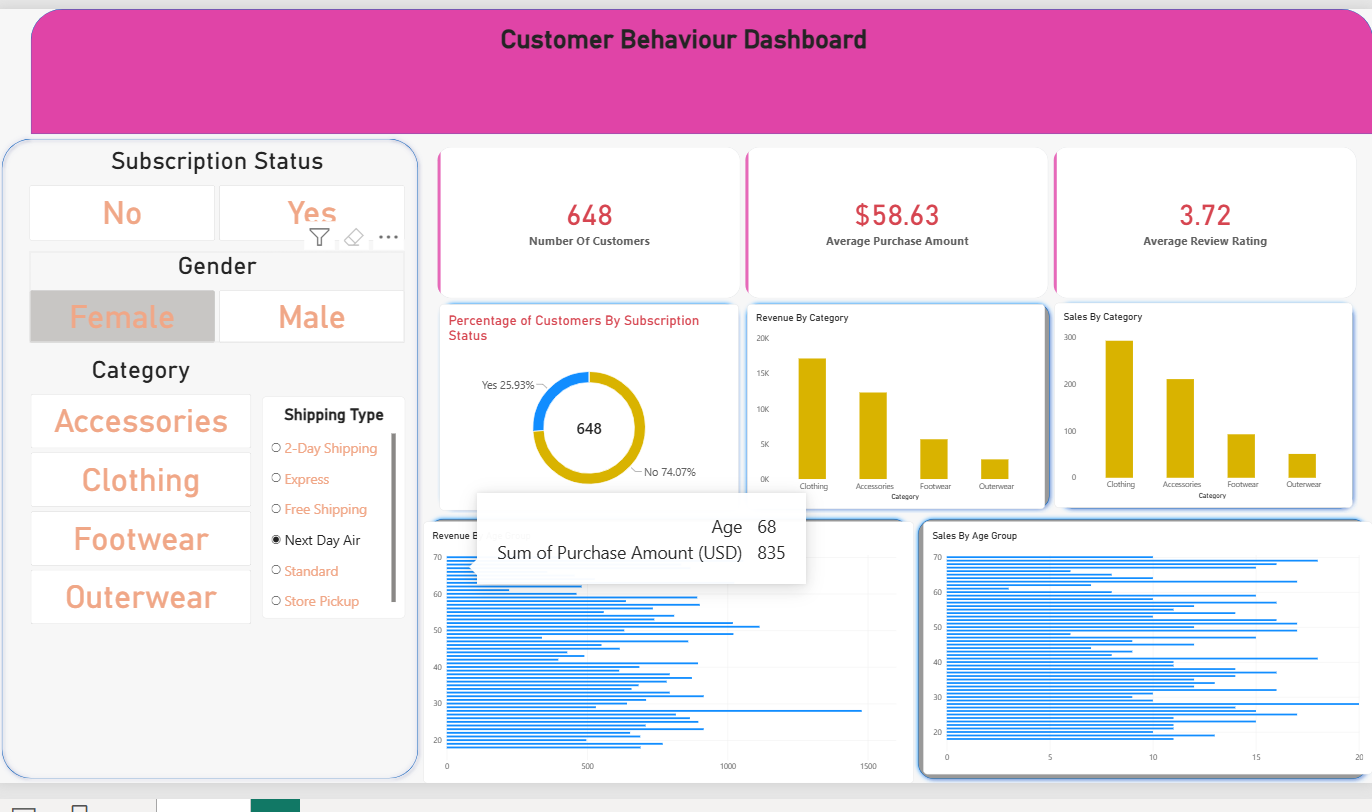

The dashboard page shown, as its layout file describes it:
{"tool":"powerbi","page":{"name":"Page 1","canvas":[2560,1440],"ordinal":0},"visuals":[{"type":"cardVisual","fields":{"Data":["analysis customer.Number Of Customers","analysis customer.Average Purchase Amount","analysis customer.Average Review Rating"]},"box":[818.9,257,1712.3,283.4],"z":0},{"type":"shape","box":[62.4,0,2497.6,232.9],"z":1000},{"type":"textbox","box":[62.4,28.8,2430.3,88.9],"z":2000},{"type":"shape","box":[818.9,540.3,566.8,398.6],"z":3000},{"type":"donutChart","title":"Percentage of Customers By Subscription Status","fields":{"Category":["analysis customer.Subscription Status"],"Y":["CountNonNull(analysis customer.Customer ID)"]},"box":[823.7,549.9,557.1,384.2],"z":4000},{"type":"shape","box":[1966.8,540.3,564.4,398.6],"z":5000},{"type":"shape","box":[1385.7,540.3,581.2,398.6],"z":6000},{"type":"clusteredColumnChart","title":"Revenue By Category","fields":{"Category":["analysis customer.Category"],"Y":["Sum(analysis customer.Purchase Amount (USD))"]},"box":[1395.3,549.9,554.7,381.8],"z":7000},{"type":"clusteredColumnChart","title":"Sales By Category","fields":{"Category":["analysis customer.Category"],"Y":["CountNonNull(analysis customer.Purchase Amount (USD))"]},"box":[1966.8,547.5,554.7,381.8],"z":8000},{"type":"shape","box":[0,232.9,792.5,1208],"z":9000},{"type":"advancedSlicerVisual","fields":{"Values":["analysis customer.Subscription Status"]},"box":[60,257,698.8,175.3],"z":10000},{"type":"advancedSlicerVisual","fields":{"Values":["analysis customer.Gender"]},"box":[60,451.5,698.8,170.5],"z":11000},{"type":"advancedSlicerVisual","fields":{"Values":["analysis customer.Category"]},"box":[62.4,643.6,410.7,501.9],"z":12000},{"type":"listSlicer","fields":{"Values":["analysis customer.Shipping Type"]},"box":[492.3,720.5,266.6,413.1],"z":13000},{"type":"shape","box":[792.5,939,912.6,501.9],"z":14000},{"type":"shape","box":[1705.1,939,854.9,501.9],"z":15000},{"type":"clusteredBarChart","title":"Revenue By Age Group","fields":{"Category":["analysis customer.Age"],"Y":["Sum(analysis customer.Purchase Amount (USD))"]},"box":[792.5,953.4,912.6,487.5],"z":16000},{"type":"clusteredBarChart","title":"Sales By Age Group","fields":{"Category":["analysis customer.Age"],"Y":["CountNonNull(analysis customer.Customer ID)"]},"box":[1724.3,953.4,835.7,470.7],"z":17000}]}

Visuals, with their boxes in screenshot pixels (x1, y1, x2, y2):
cardVisual - analysis customer.Number Of Customers x analysis customer.Average Purchase Amount: detection(427, 141, 1366, 296)
shape: detection(13, 0, 1371, 128)
textbox: detection(13, 16, 1344, 64)
shape: detection(427, 296, 738, 514)
"Percentage of Customers By Subscription Status" donutChart: detection(430, 301, 735, 512)
shape: detection(1056, 296, 1366, 514)
shape: detection(738, 296, 1056, 514)
"Revenue By Category" clusteredColumnChart: detection(743, 301, 1047, 511)
"Sales By Category" clusteredColumnChart: detection(1056, 300, 1360, 509)
shape: detection(0, 128, 413, 790)
advancedSlicerVisual - analysis customer.Subscription Status: detection(11, 141, 394, 237)
advancedSlicerVisual - analysis customer.Gender: detection(11, 247, 394, 341)
advancedSlicerVisual - analysis customer.Category: detection(13, 353, 238, 628)
listSlicer - analysis customer.Shipping Type: detection(248, 395, 394, 621)
shape: detection(413, 515, 913, 790)
shape: detection(913, 515, 1371, 790)
"Revenue By Age Group" clusteredBarChart: detection(413, 522, 913, 790)
"Sales By Age Group" clusteredBarChart: detection(923, 522, 1371, 780)
